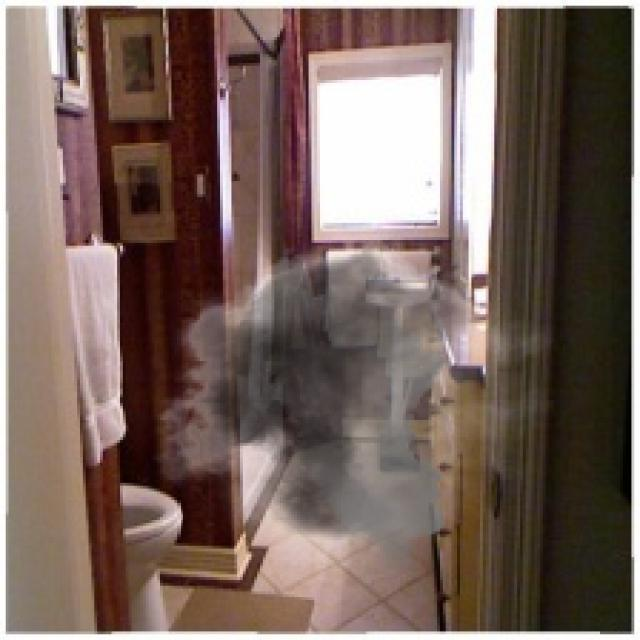Smoke: (137, 217, 557, 572)
